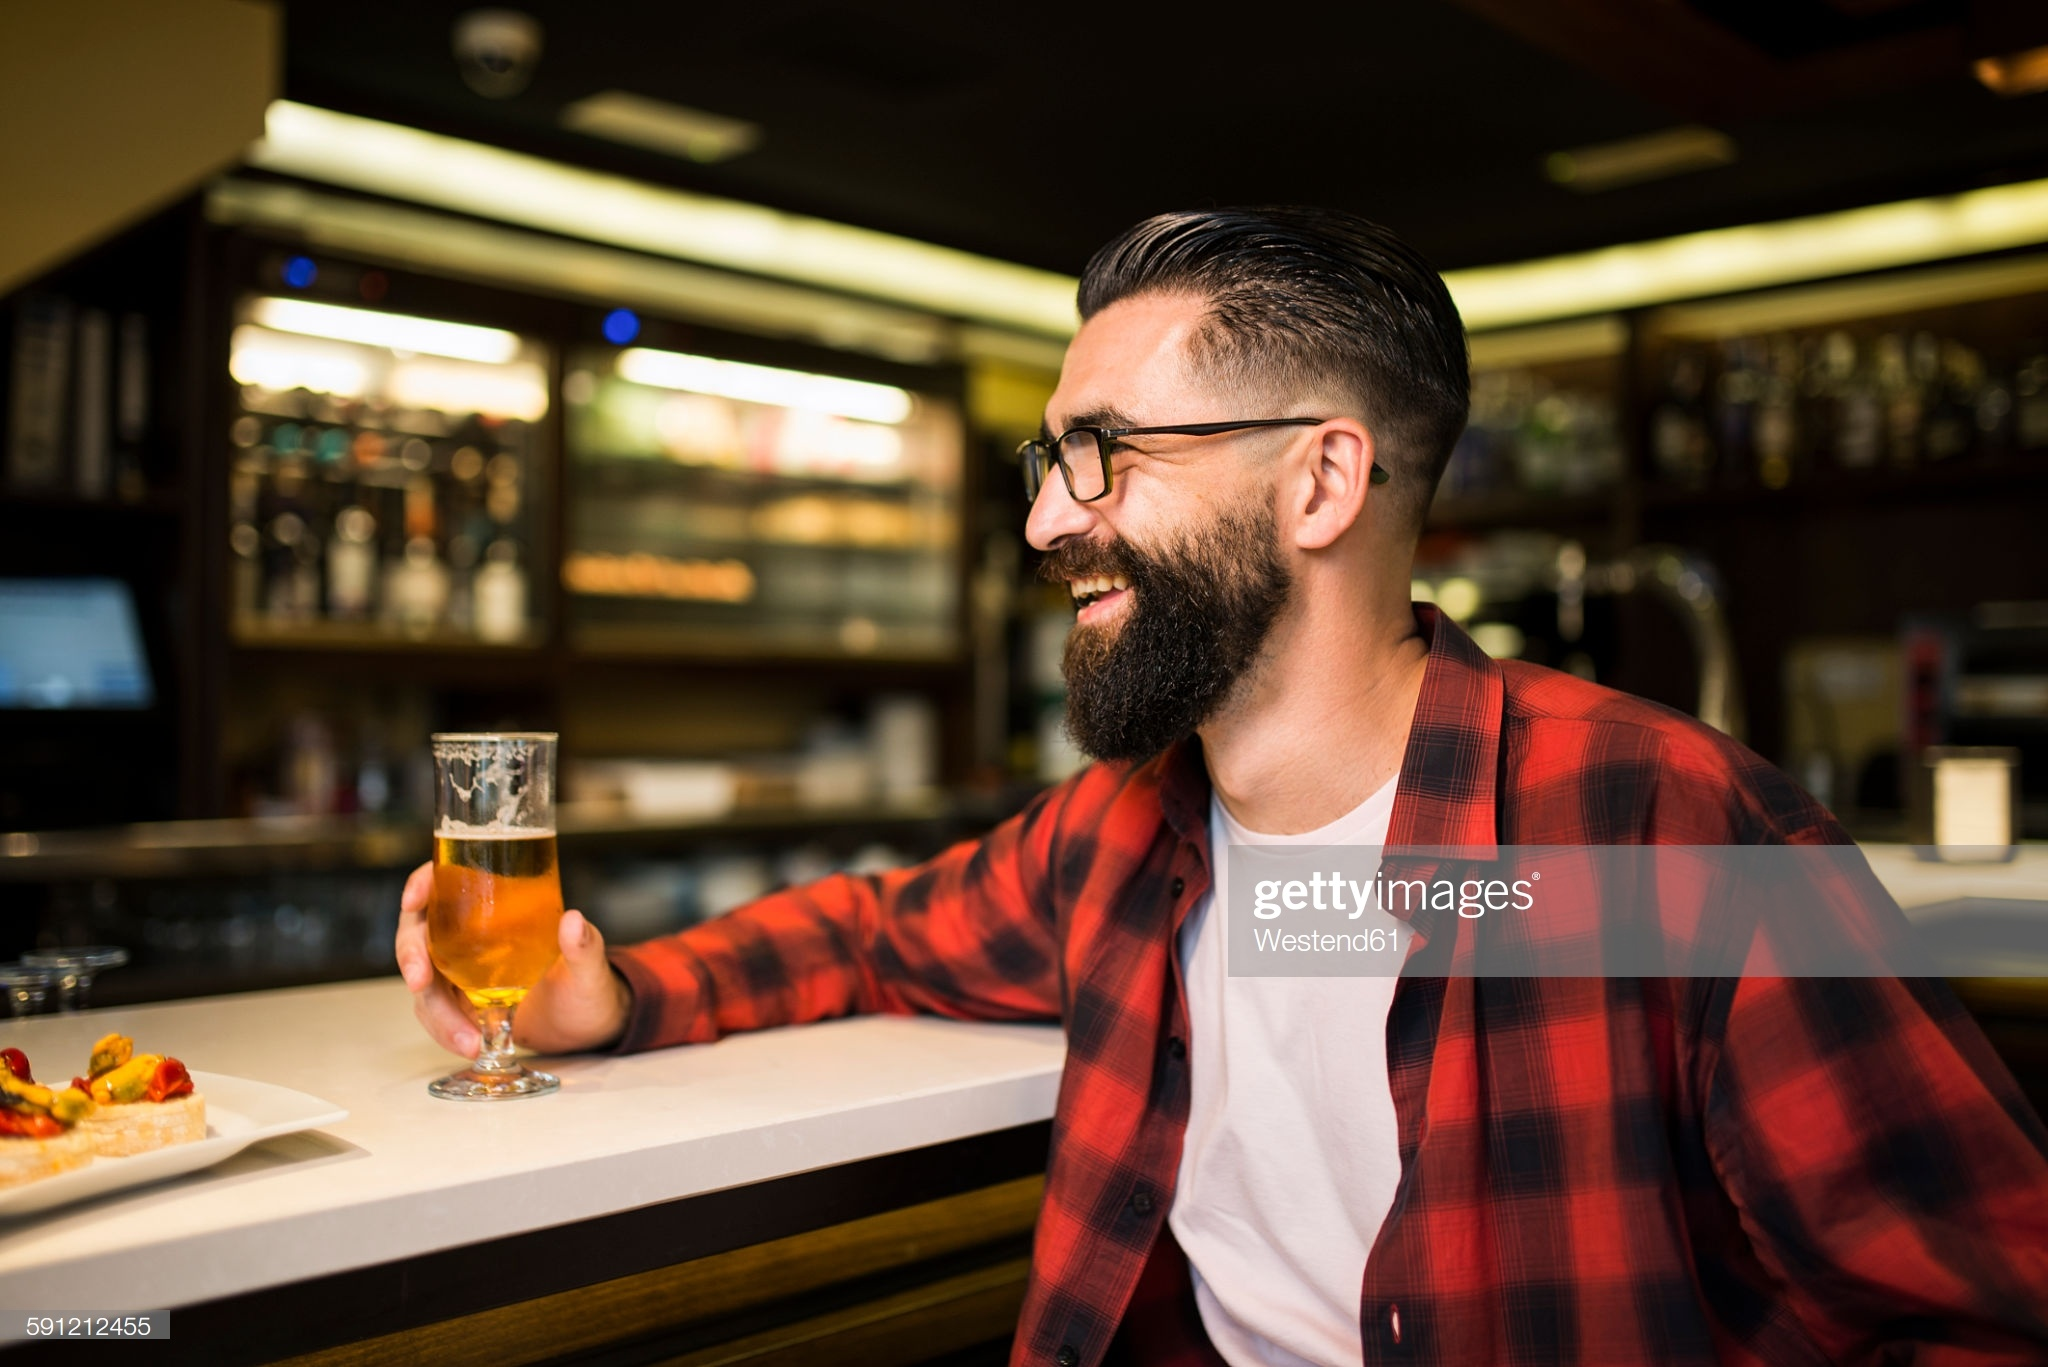glassBeer: (409, 722, 576, 1079)
